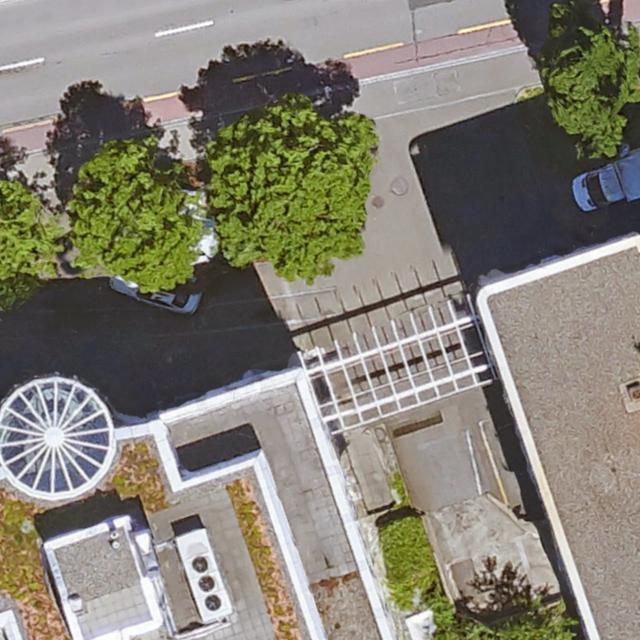tree: (197, 107, 375, 277), (65, 137, 200, 285), (542, 0, 640, 158), (0, 167, 53, 305), (440, 602, 578, 640)
